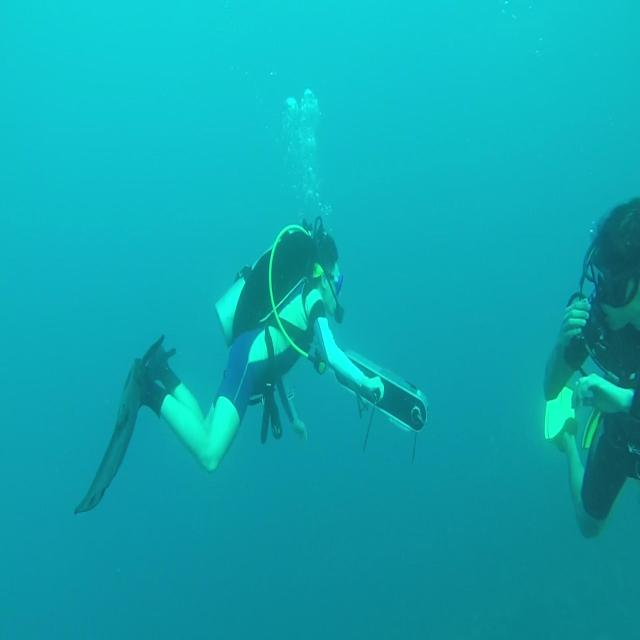human: (74, 214, 386, 516), (542, 194, 640, 539)
